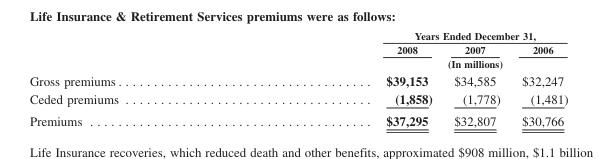table: (28, 29, 567, 128)
table column: (28, 29, 253, 128), (253, 29, 442, 128), (442, 29, 510, 128), (510, 29, 567, 128)
table column header: (28, 29, 567, 71)
table row: (28, 89, 567, 109), (28, 109, 567, 128), (28, 71, 567, 89), (28, 56, 567, 71), (28, 42, 567, 56), (28, 29, 567, 42)
table spanning cell: (253, 56, 567, 71), (253, 29, 567, 42)
